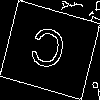C: (24, 25, 69, 80)
